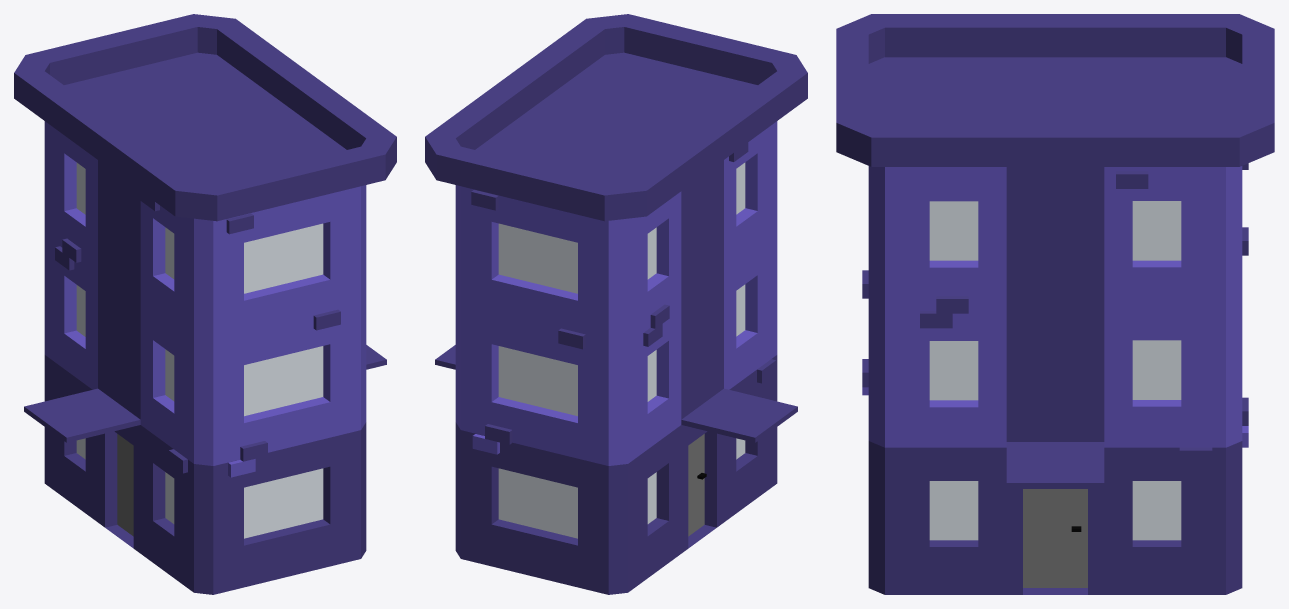
File: Edificio 6.fbx
The picture shows the model from 3 angles, left to right: view 1: azimuth 30°, elevation 25°; view 2: azimuth 150°, elevation 25°; view 3: azimuth 270°, elevation 25°; orthographic projection. The views are drawn at different scales.
Parts seen in each view (by area): view 1: [3872], Pared 2 [3958], Pared 1 [3904]; view 2: [3872], Pared 2 [3955], Pared 1 [3904]; view 3: Pared 1 [3901], [3872], Pared 2 [3955].
Part boxes in pixels (box(x1,y1,x2,y2)): [3872]: box(14, 14, 396, 594); Pared 2 [3958]: box(213, 186, 360, 594); Pared 1 [3904]: box(24, 121, 193, 592); [3872]: box(425, 14, 807, 594); Pared 2 [3955]: box(461, 186, 608, 594); Pared 1 [3904]: box(628, 121, 797, 592); Pared 1 [3901]: box(885, 167, 1225, 594); [3872]: box(836, 14, 1274, 594); Pared 2 [3955]: box(1242, 163, 1248, 447).
Size of the model in its own units: 512 by 531 by 630.
